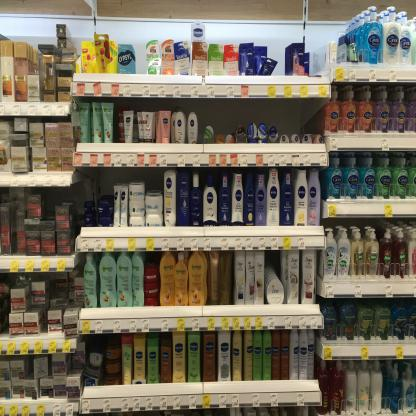Void: (202, 102, 317, 122), (82, 166, 113, 194), (309, 42, 324, 76), (49, 274, 65, 299), (276, 42, 284, 74), (44, 190, 54, 215), (149, 170, 162, 189), (266, 254, 280, 270), (136, 46, 145, 69)
